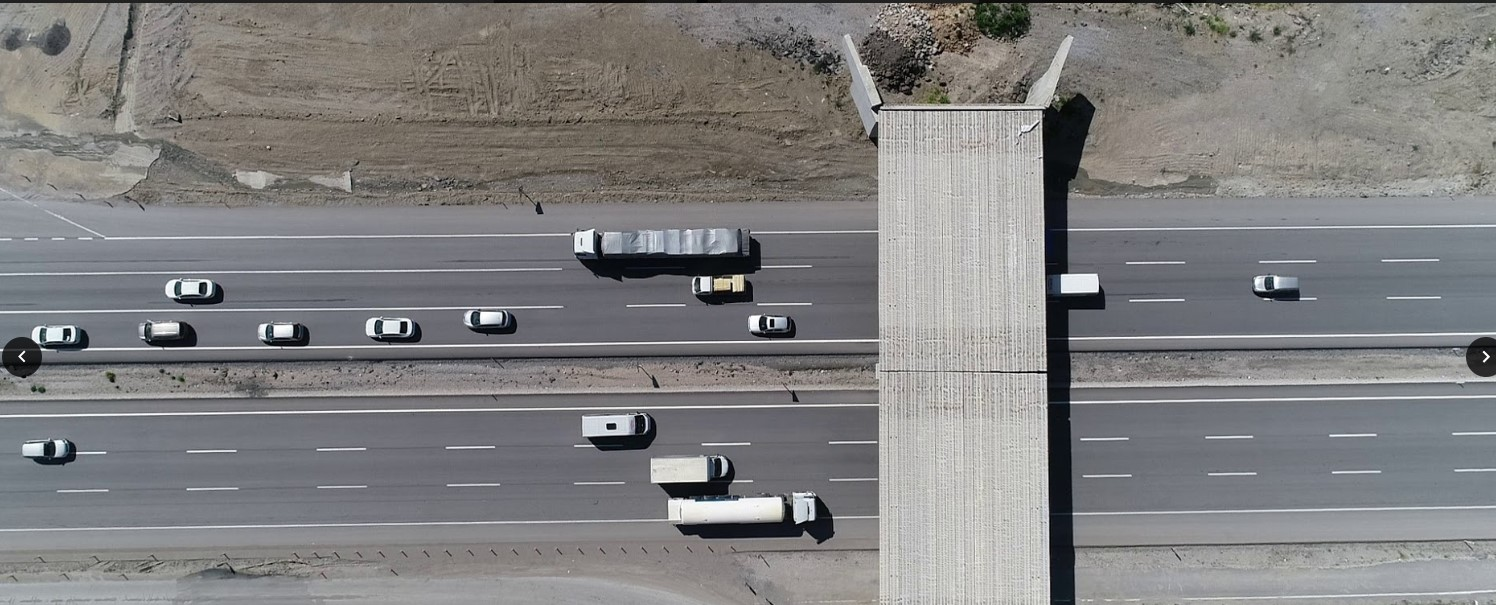araba: (570, 224, 761, 269), (664, 496, 824, 525), (647, 453, 732, 490), (575, 412, 656, 445), (19, 434, 79, 468), (690, 269, 750, 303), (254, 314, 307, 350), (22, 323, 87, 351), (160, 276, 224, 301), (360, 317, 423, 341), (136, 312, 190, 340), (457, 306, 512, 331), (744, 307, 801, 331), (1248, 274, 1299, 296)
